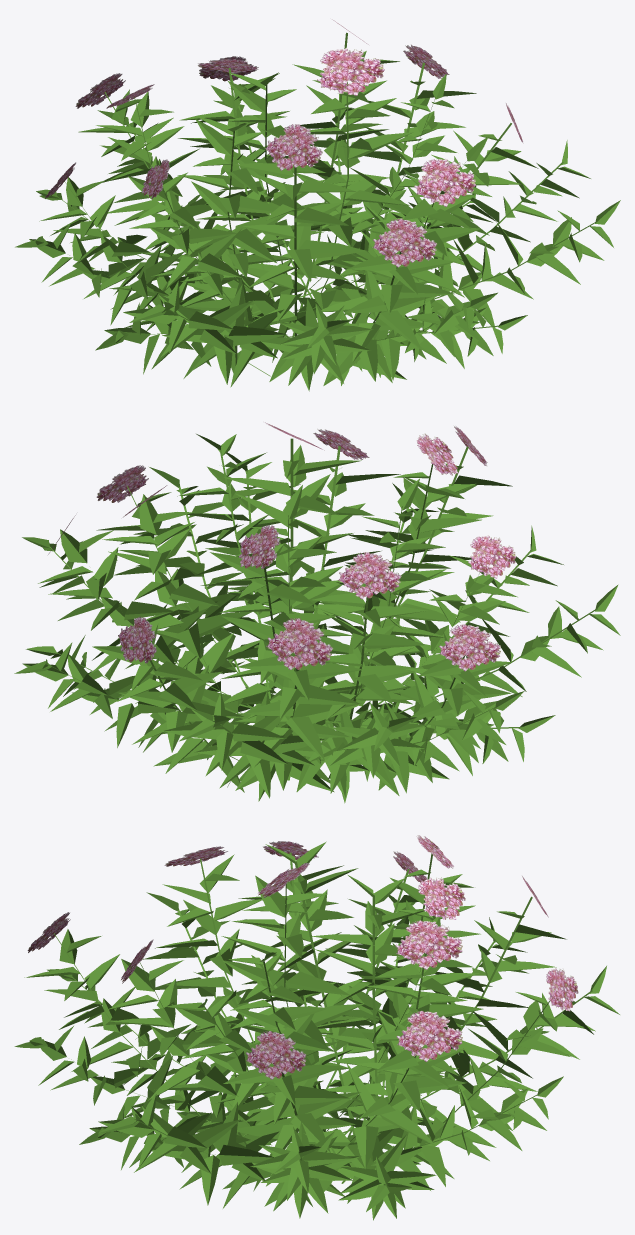
File: spirea.dae
The picture shows the model from 3 angles, top to bottom: view 1: azimuth 30°, elevation 25°; view 2: azimuth 150°, elevation 25°; view 3: azimuth 270°, elevation 25°; orthographic projection. The views are drawn at different scales.
Parts seen in each view (by area): view 1: Component_1 (×8), Plane.003 (×9); view 2: Component_1 (×9), Plane.003 (×18); view 3: Component_1 (×8), Plane.003 (×14).
Part boxes in pixels (x1=…): Component_1 (×8): x1=75, y1=44, x2=475, y2=267; Plane.003 (×9): x1=195, y1=119, x2=454, y2=349; Component_1 (×9): x1=96, y1=429, x2=516, y2=671; Plane.003 (×18): x1=60, y1=477, x2=425, y2=764; Component_1 (×8): x1=27, y1=846, x2=578, y2=1079; Plane.003 (×14): x1=192, y1=875, x2=466, y2=1205.
Bounding box in the file's own units: 50.4 × 50.17 × 30.3.
Materials: 2 (1 with a texture image).
